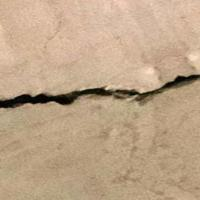crack: (0, 65, 199, 136)
